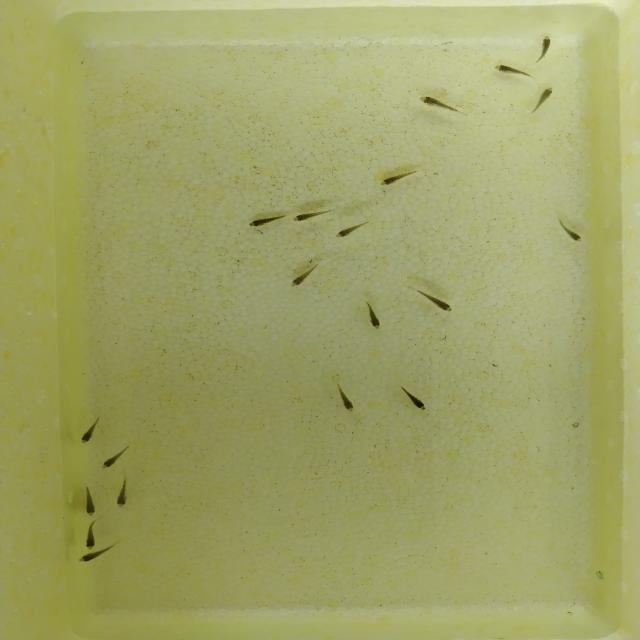fingerling: (416, 92, 466, 121), (328, 379, 363, 417), (415, 290, 459, 316), (91, 449, 138, 470), (78, 482, 103, 517), (74, 418, 106, 445), (398, 384, 430, 409), (492, 61, 528, 80), (289, 266, 315, 292), (73, 549, 111, 566), (363, 299, 382, 332), (376, 172, 414, 188), (534, 83, 556, 110), (330, 222, 367, 237), (293, 208, 332, 222), (560, 224, 585, 245), (535, 36, 551, 66), (116, 477, 130, 510), (245, 216, 282, 228), (82, 524, 97, 549)
